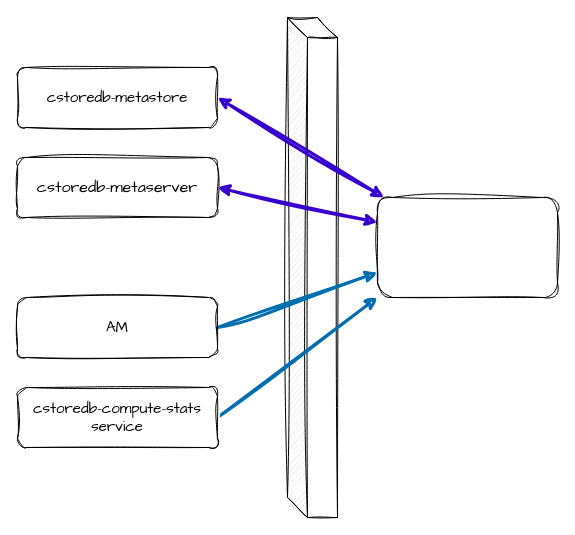
This 575x535 diagram has some shape labels left out. Here are the shapes that lost their labels. From the top down, the box of each, then its label:
(286, 16, 338, 518): PNC
(376, 196, 558, 298): cstoredb yucan cluster
